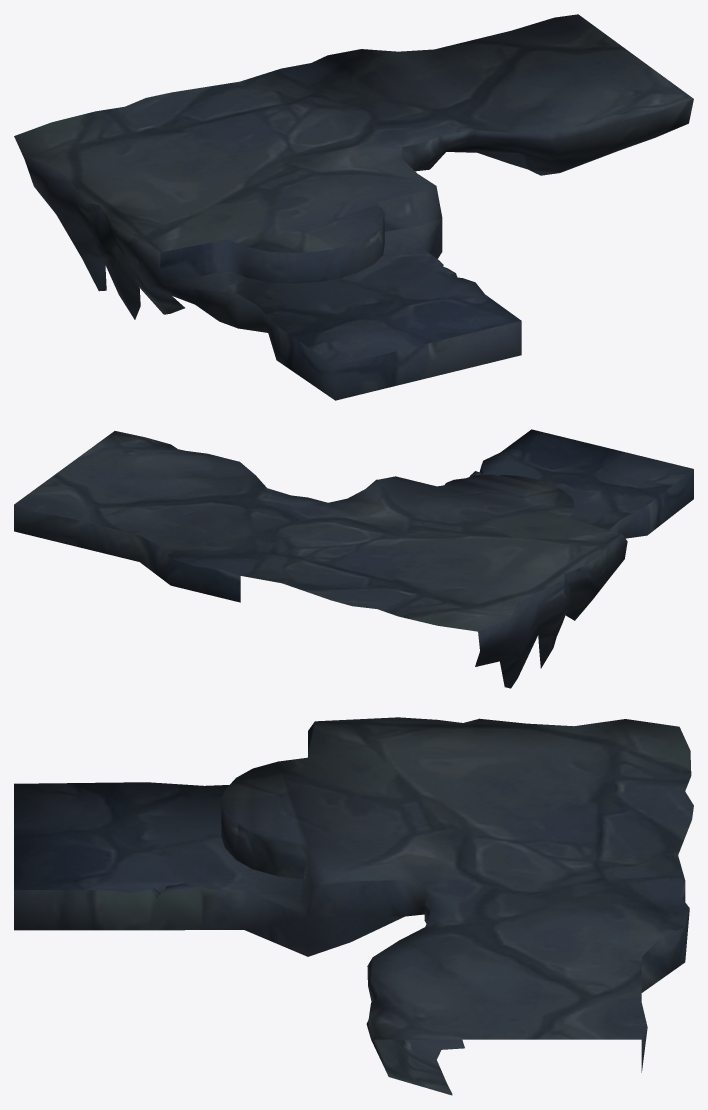
Rendered from sn_jiguan_baseframe_001.FBX.
3 renders of one model, top to bottom at view 1: azimuth 30°, elevation 25°; view 2: azimuth 150°, elevation 25°; view 3: azimuth 270°, elevation 25°, orthographic. The views are drawn at different scales.
Visible parts, largest first — view 1: sn_jiguan_baseframe_001; view 2: sn_jiguan_baseframe_001; view 3: sn_jiguan_baseframe_001.
Part boxes in pixels (x1,y1,x2,y2): sn_jiguan_baseframe_001: (14,14,693,400); sn_jiguan_baseframe_001: (14,429,693,688); sn_jiguan_baseframe_001: (14,717,693,1095).
Size of the model in its own units: 3714 by 745 by 3282.
